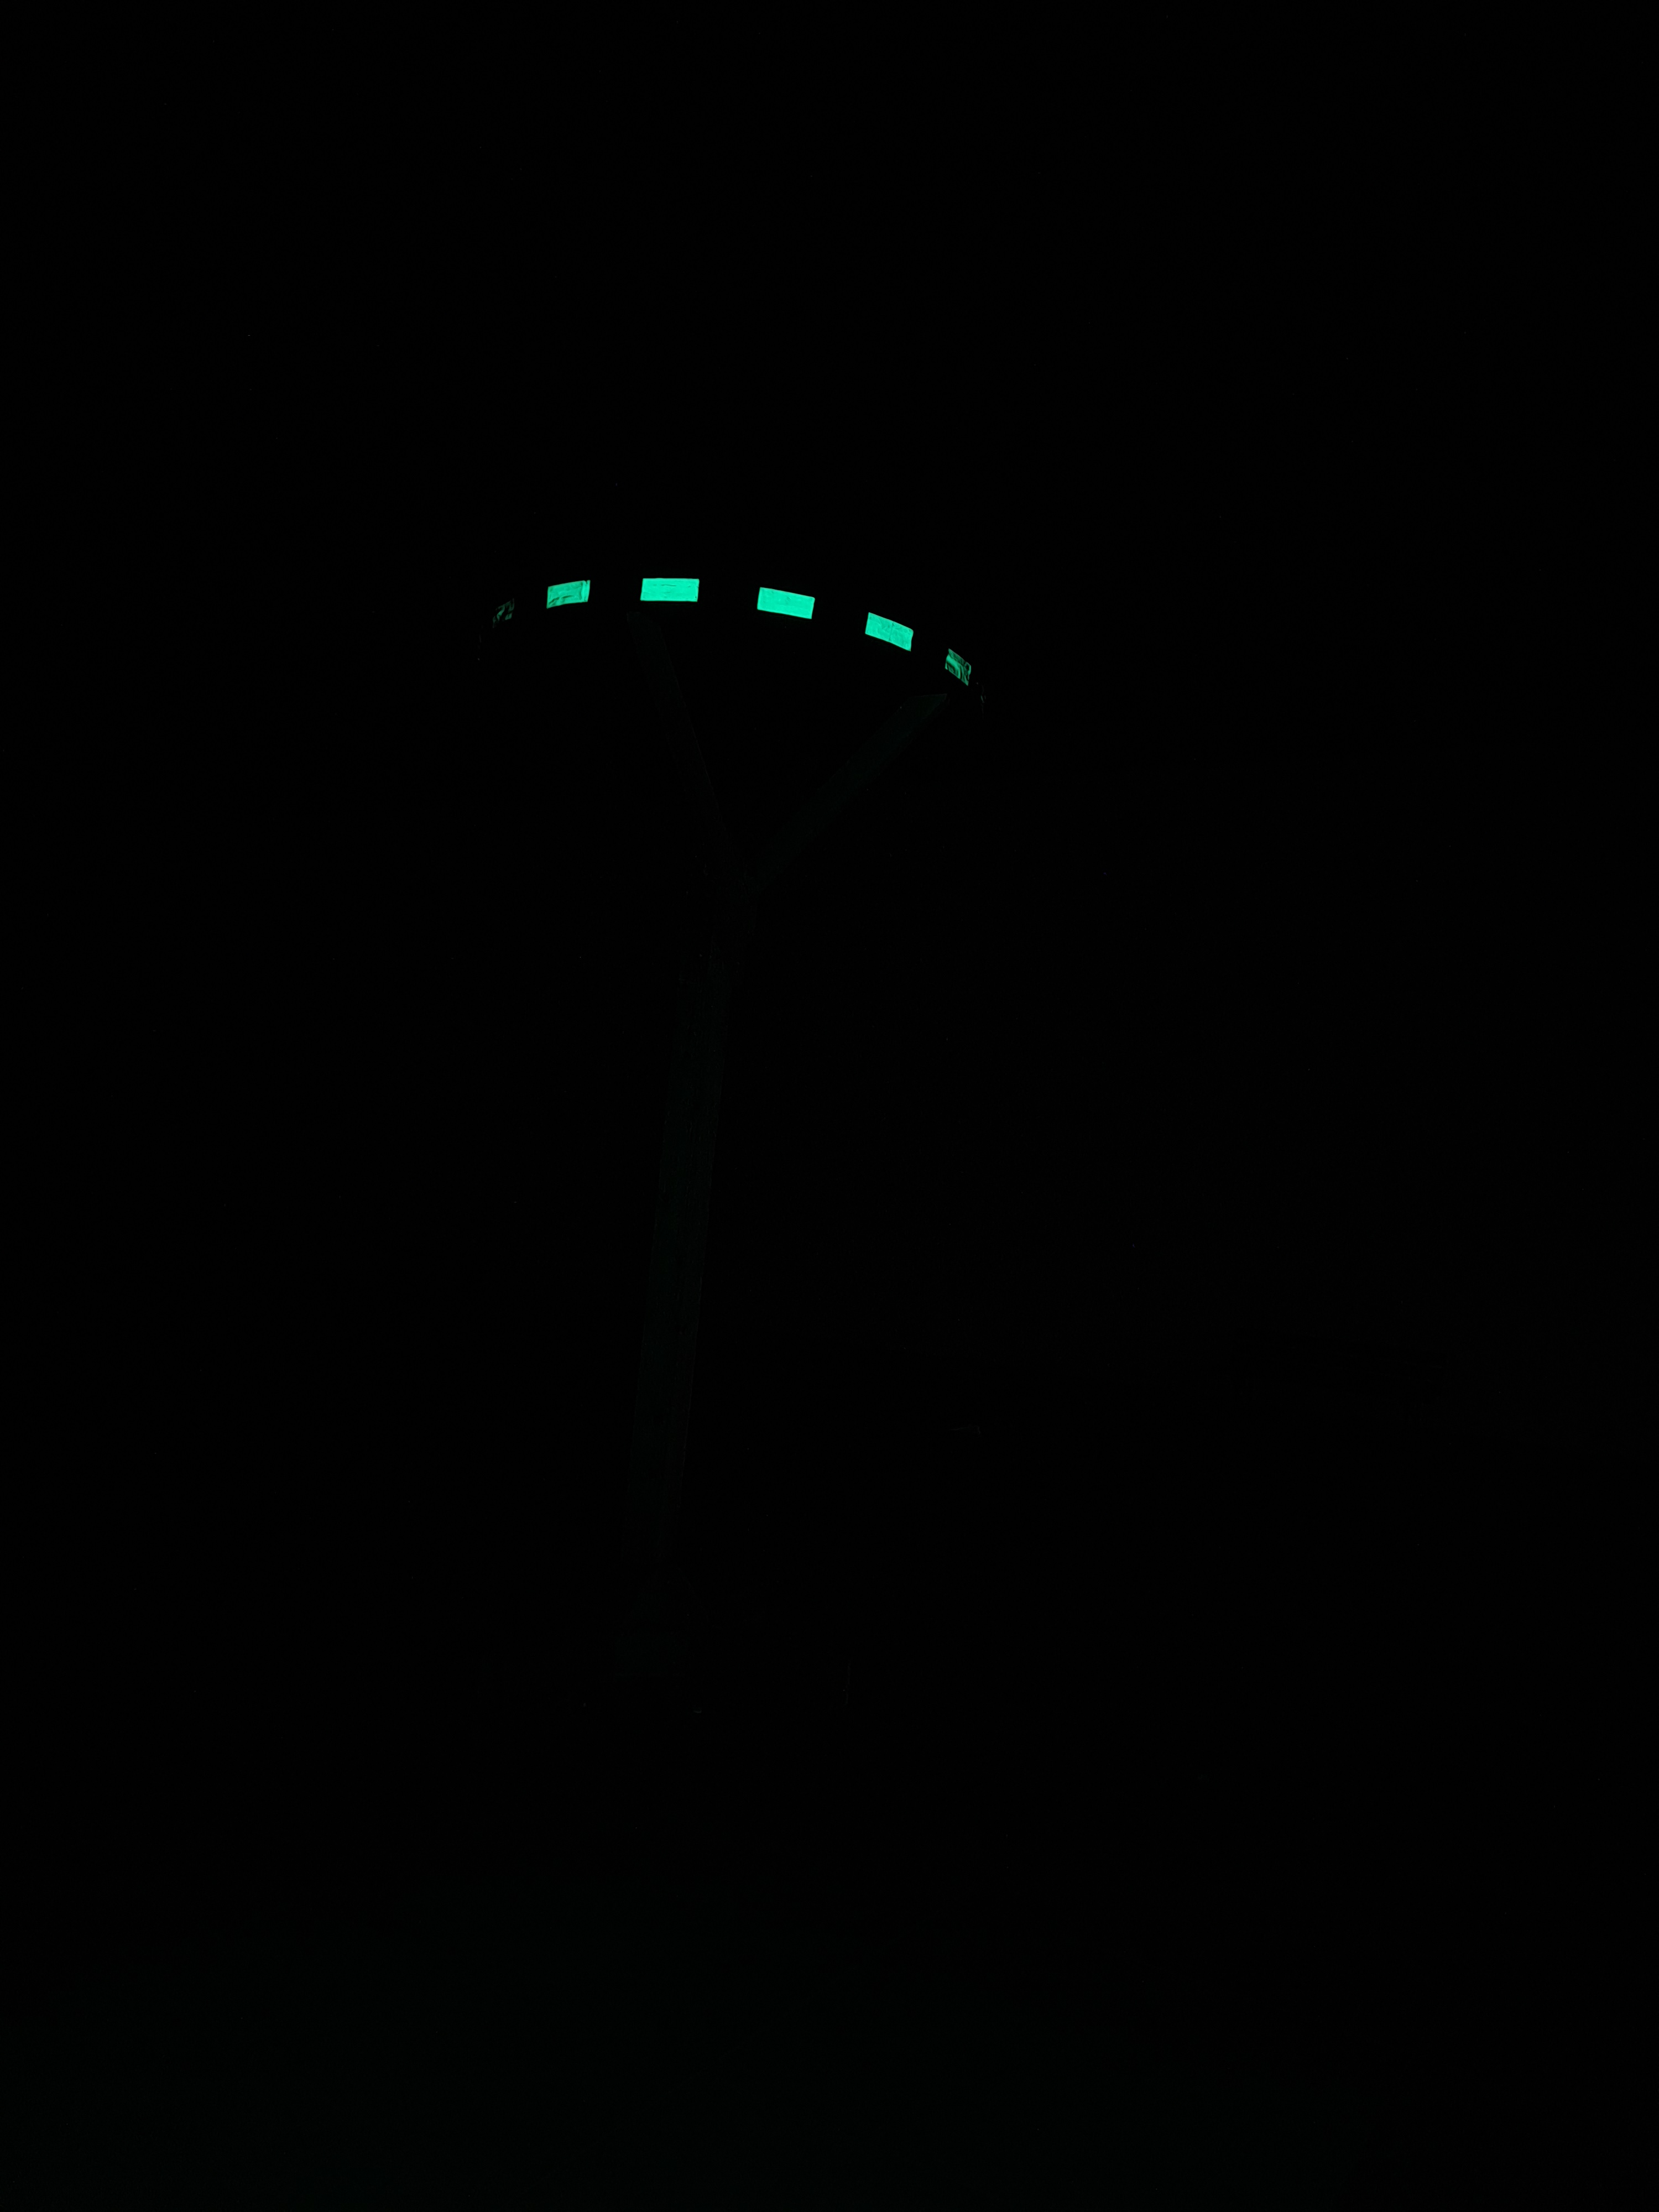hoop: (477, 566, 985, 718)
